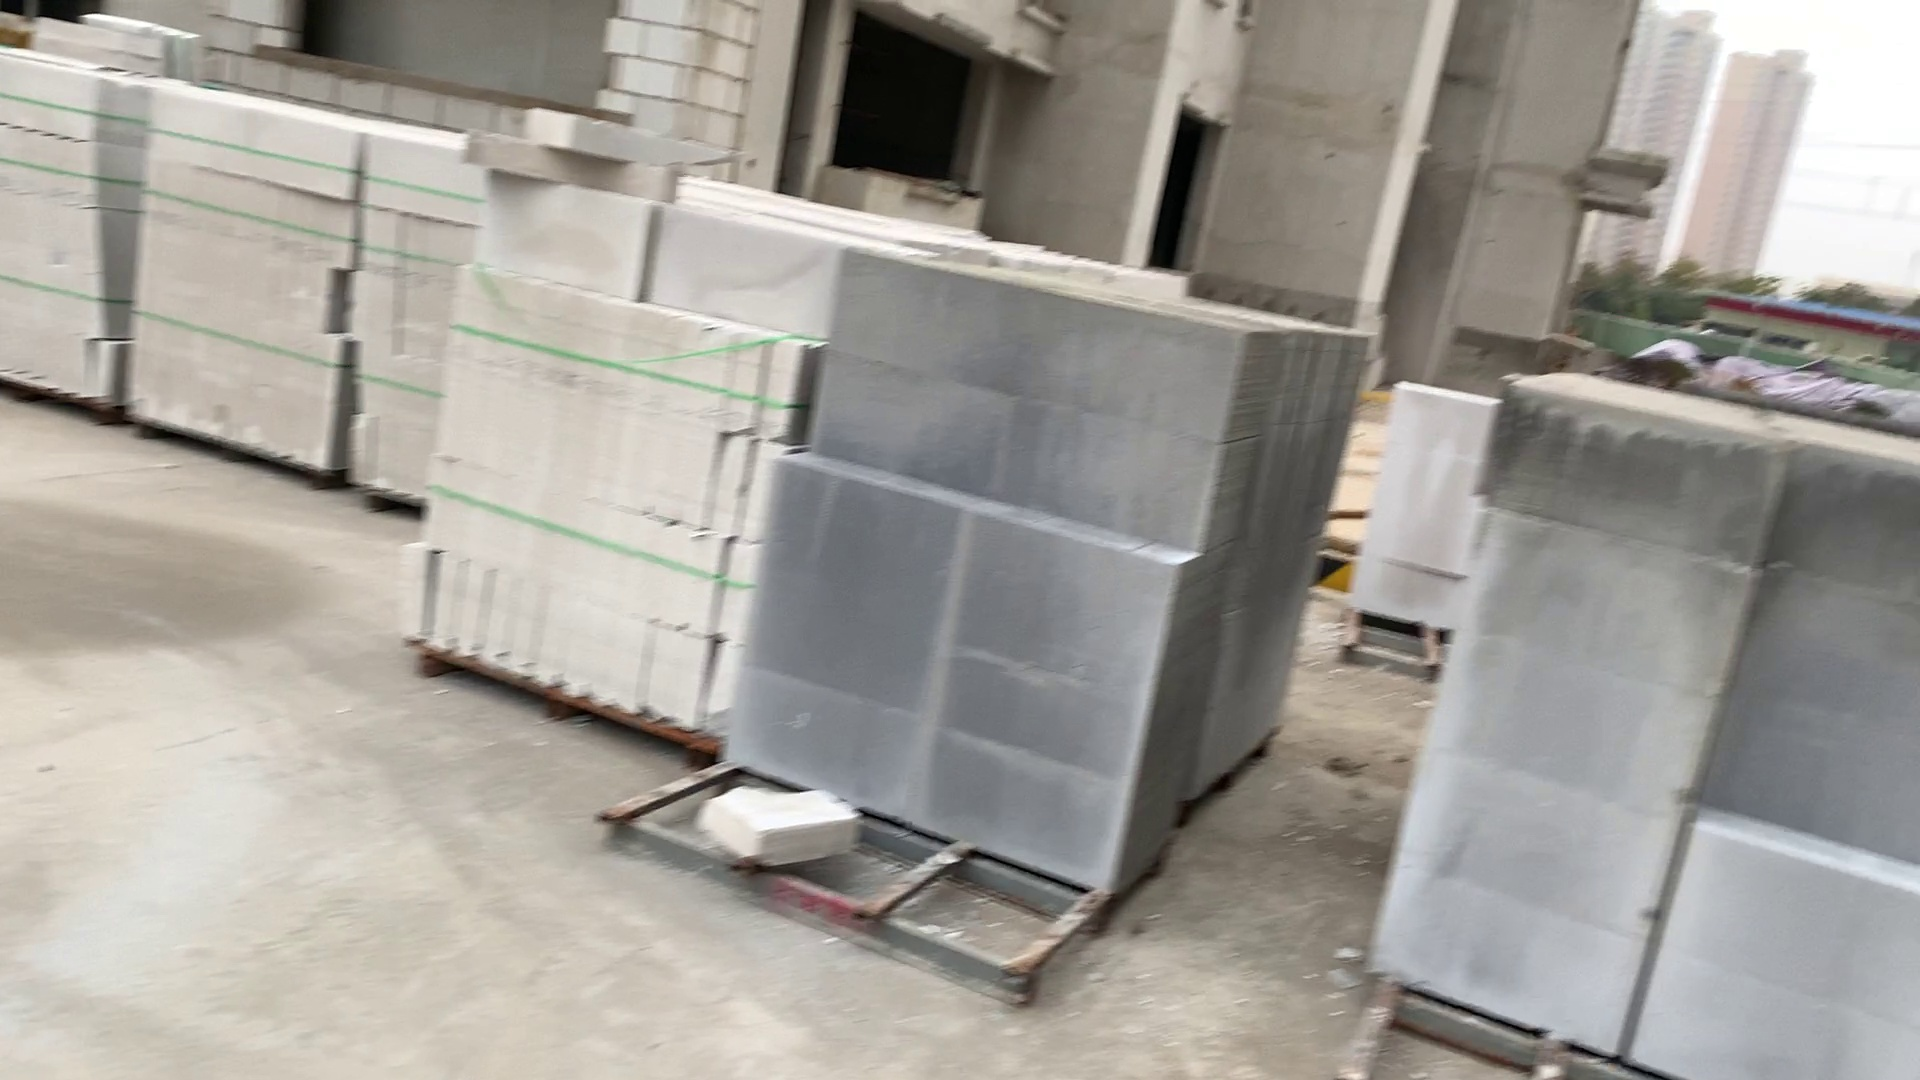brickwork: (757, 248, 1342, 887), (1423, 376, 1920, 1079), (415, 157, 770, 725), (123, 91, 335, 465), (4, 44, 127, 407), (343, 127, 448, 493), (1370, 381, 1476, 629)
